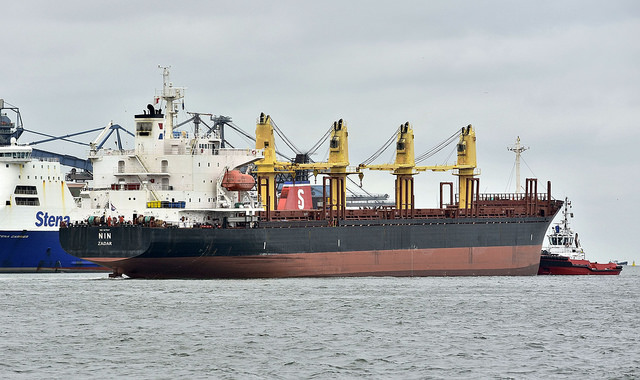bulk carrier: (57, 68, 563, 276)
tug_boat: (543, 195, 622, 273)
